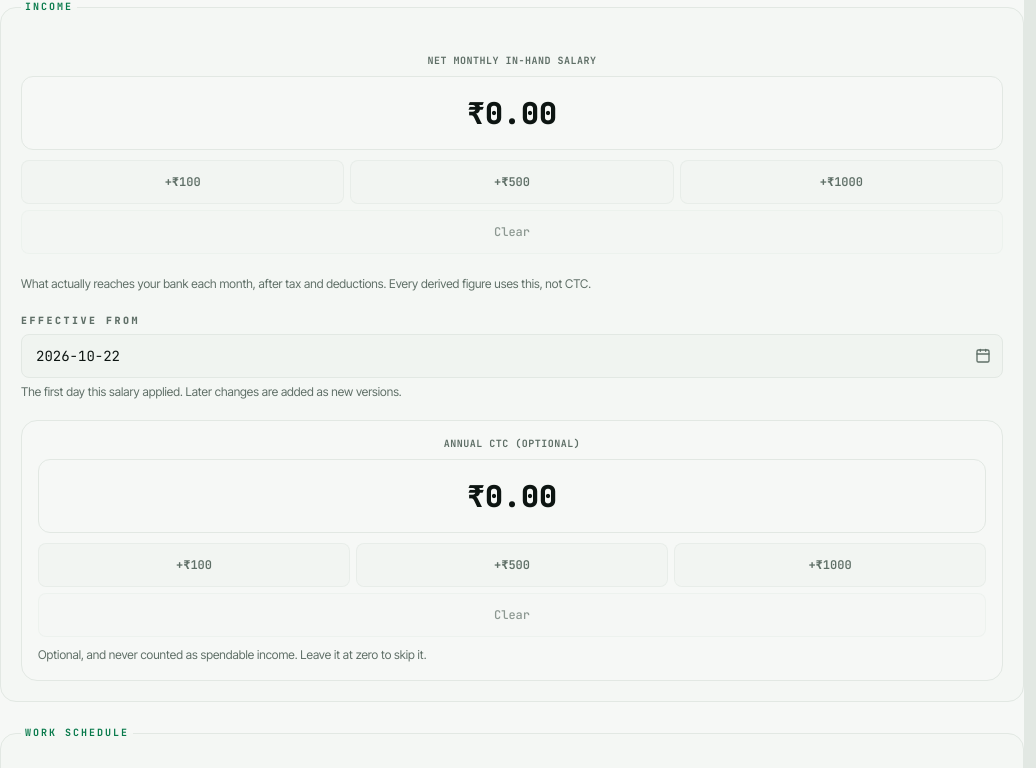
SalaryProfileForm setup state › reports a duplicate effective date on the date field
Replace the text in the field labelled "Net monthly in-hand salary" with "12500": (512, 113) [21,76,1003,150]
(page scrolled)
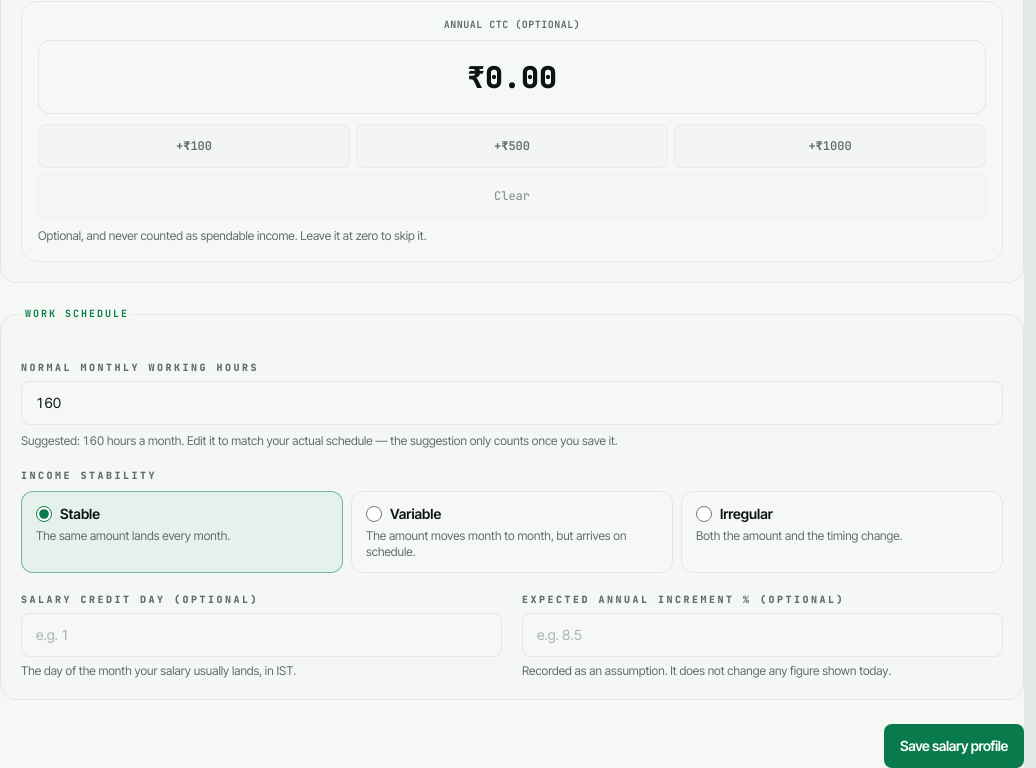
Click the button "Save salary profile": click(954, 746) [884,724,1024,767]
(page scrolled)
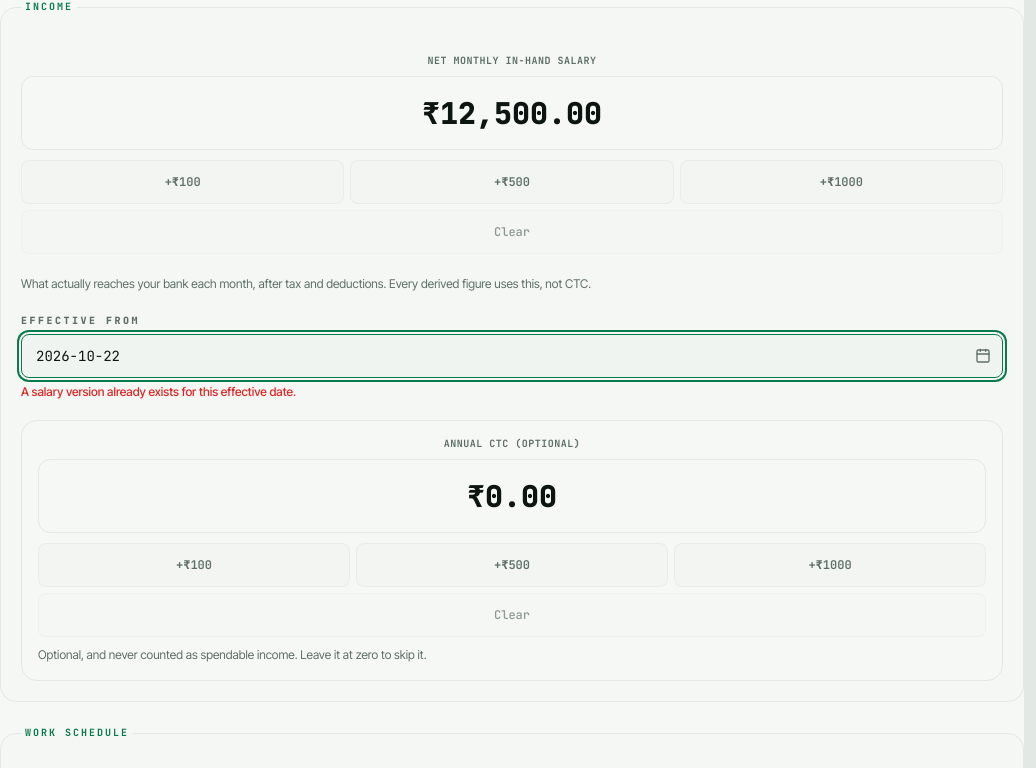
Expected: the text "A salary version already exists for this effective date." is shown, [21,384,296,398]
